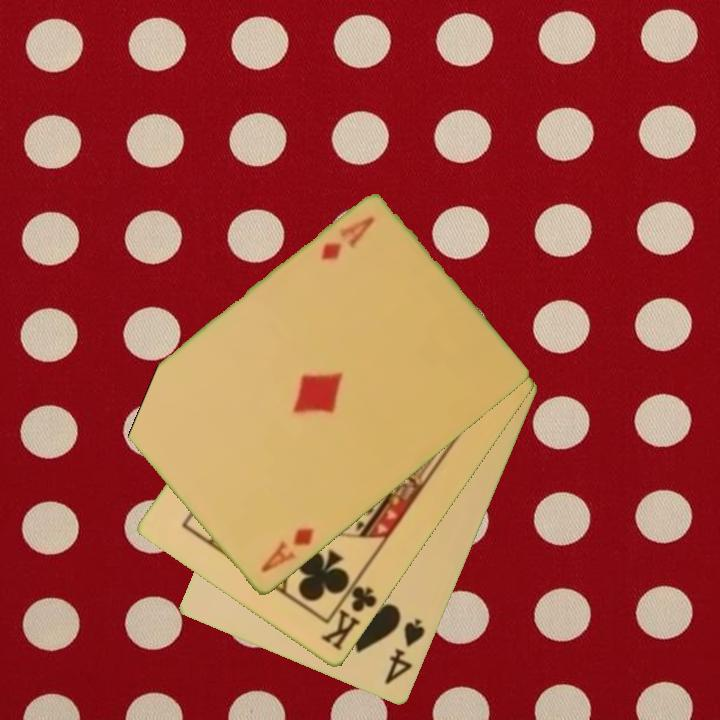4s: (381, 615, 428, 688)
Ad: (257, 524, 318, 577), (317, 213, 378, 264)
Kc: (317, 573, 380, 654)
